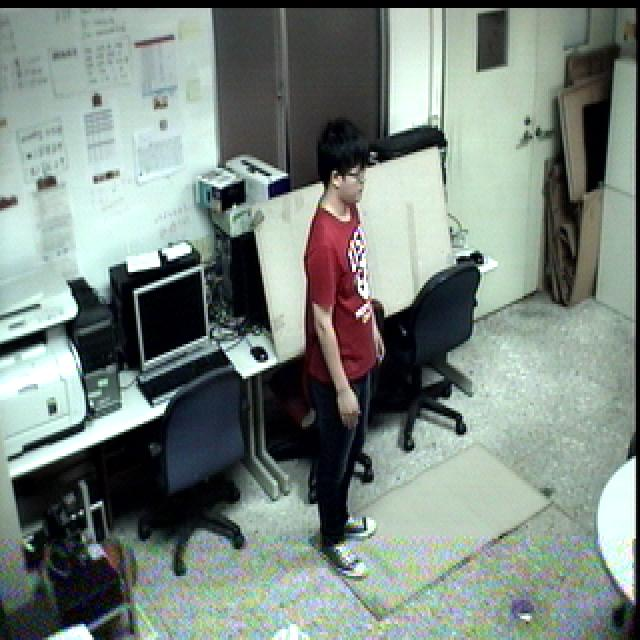stand: (298, 124, 403, 593)
